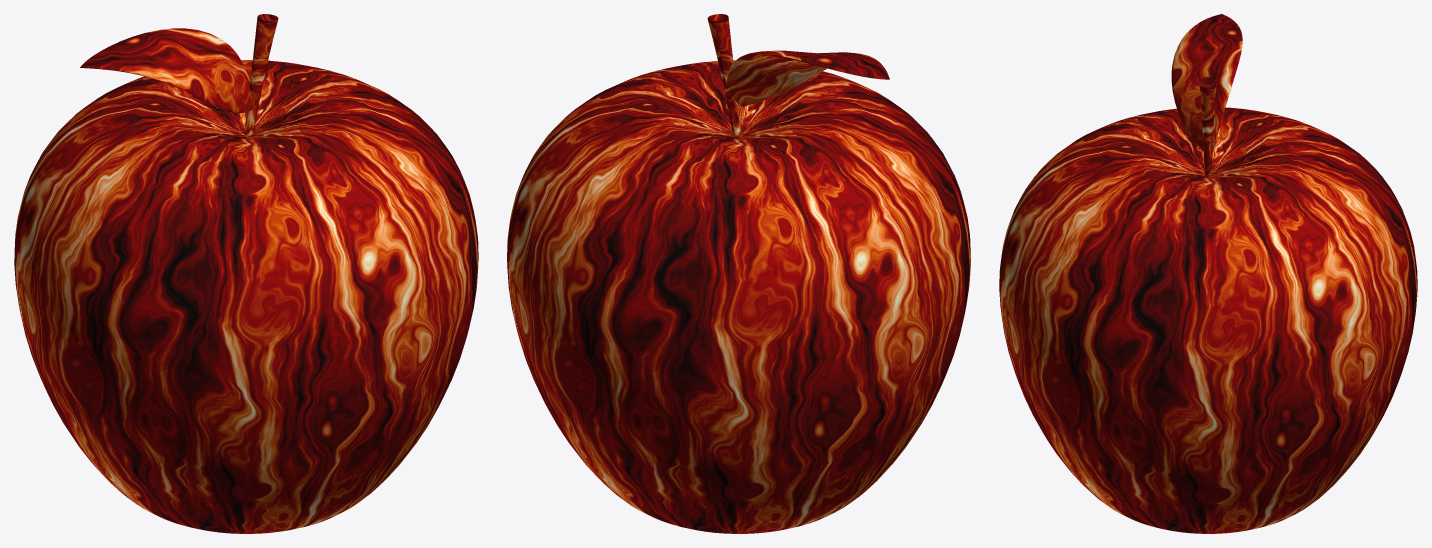
The model's file is _Alien_Muscle_001_SD.glb.
3 renders of one model, left to right at view 1: azimuth 30°, elevation 25°; view 2: azimuth 150°, elevation 25°; view 3: azimuth 270°, elevation 25°, orthographic. The views are drawn at different scales.
Visible parts, largest first — view 1: apple_bake.202; view 2: apple_bake.202; view 3: apple_bake.202.
Part boxes in pixels (x1,y1,x2,y2): apple_bake.202: (14,14,478,533); apple_bake.202: (507,14,970,533); apple_bake.202: (999,14,1417,533).
Bounding box in the file's own units: 3.15 × 3.53 × 3.15.
1 material, 1 textured.
